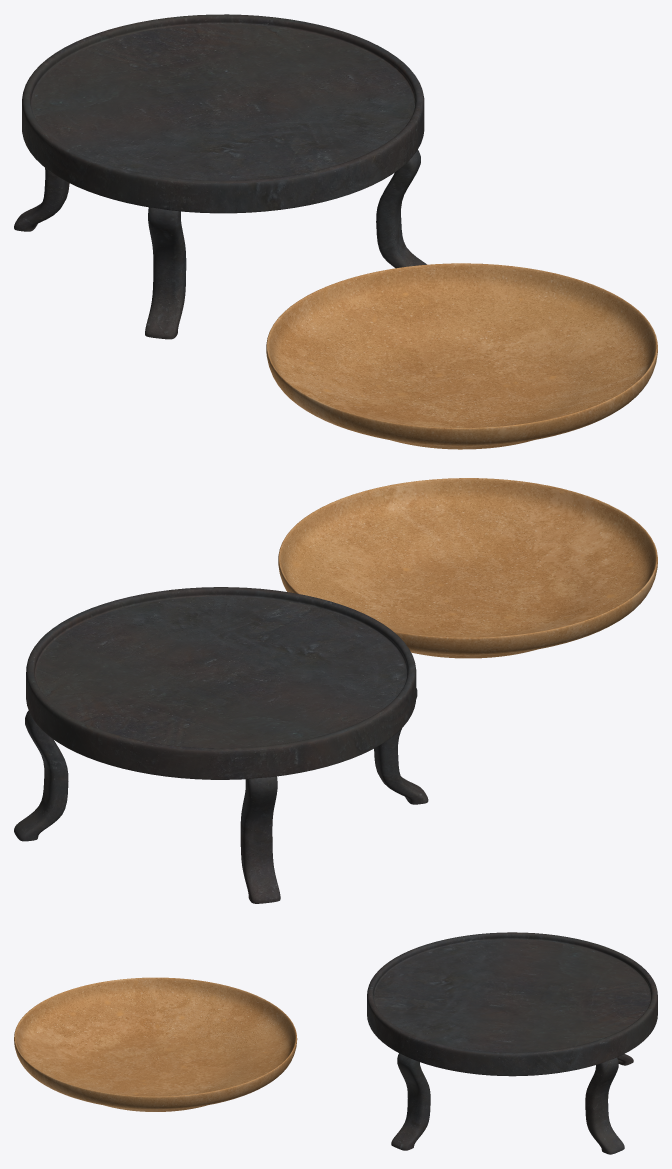
File: TEST_Clean.fbx
The picture shows the model from 3 angles, top to bottom: view 1: azimuth 30°, elevation 25°; view 2: azimuth 150°, elevation 25°; view 3: azimuth 270°, elevation 25°; orthographic projection. The views are drawn at different scales.
Visible parts, largest first — view 1: Pot_Stand_Clean, Clay_Plate_Clean; view 2: Pot_Stand_Clean, Clay_Plate_Clean; view 3: Pot_Stand_Clean, Clay_Plate_Clean.
Part boxes in pixels (bbox=[...]): Pot_Stand_Clean: bbox=[14, 14, 426, 339]; Clay_Plate_Clean: bbox=[266, 263, 657, 449]; Pot_Stand_Clean: bbox=[14, 587, 428, 903]; Clay_Plate_Clean: bbox=[278, 478, 657, 658]; Pot_Stand_Clean: bbox=[367, 932, 657, 1154]; Clay_Plate_Clean: bbox=[14, 977, 297, 1111].
Size of the model in its own units: 0.3165 by 0.1314 by 0.6939.
Materials: 2 (2 with a texture image).
